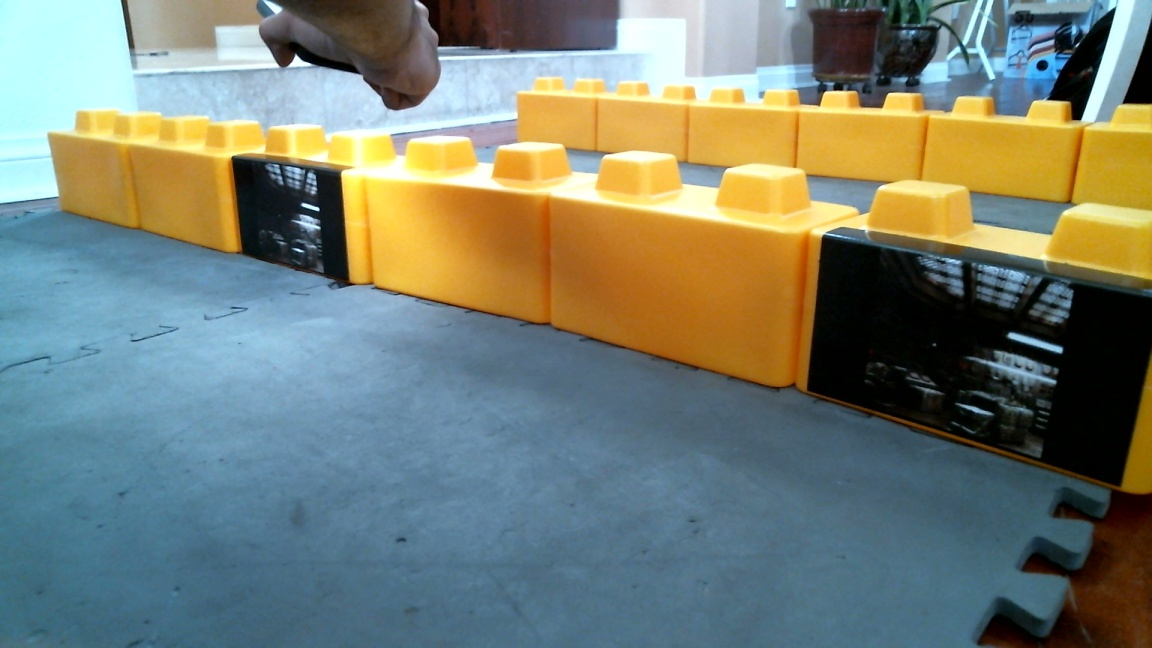skystone: (815, 184, 1151, 511), (235, 116, 366, 284)
stone: (558, 149, 793, 381), (364, 138, 555, 337), (134, 111, 231, 255), (51, 110, 134, 232)
